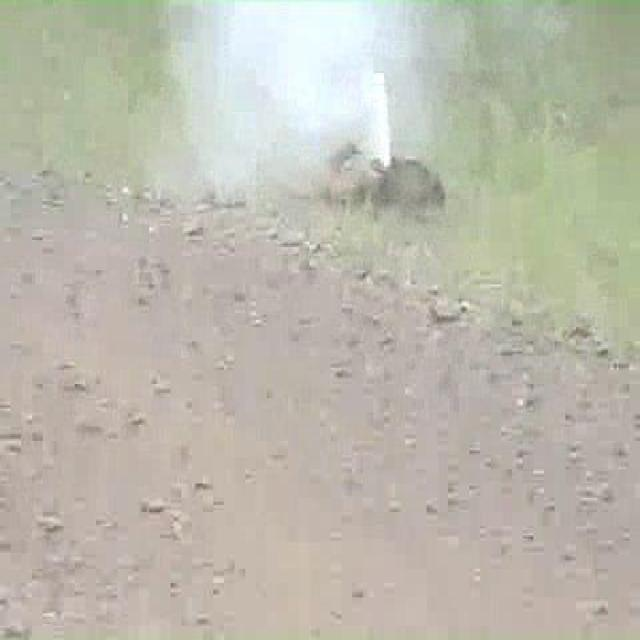Smoke: (168, 0, 391, 196)
